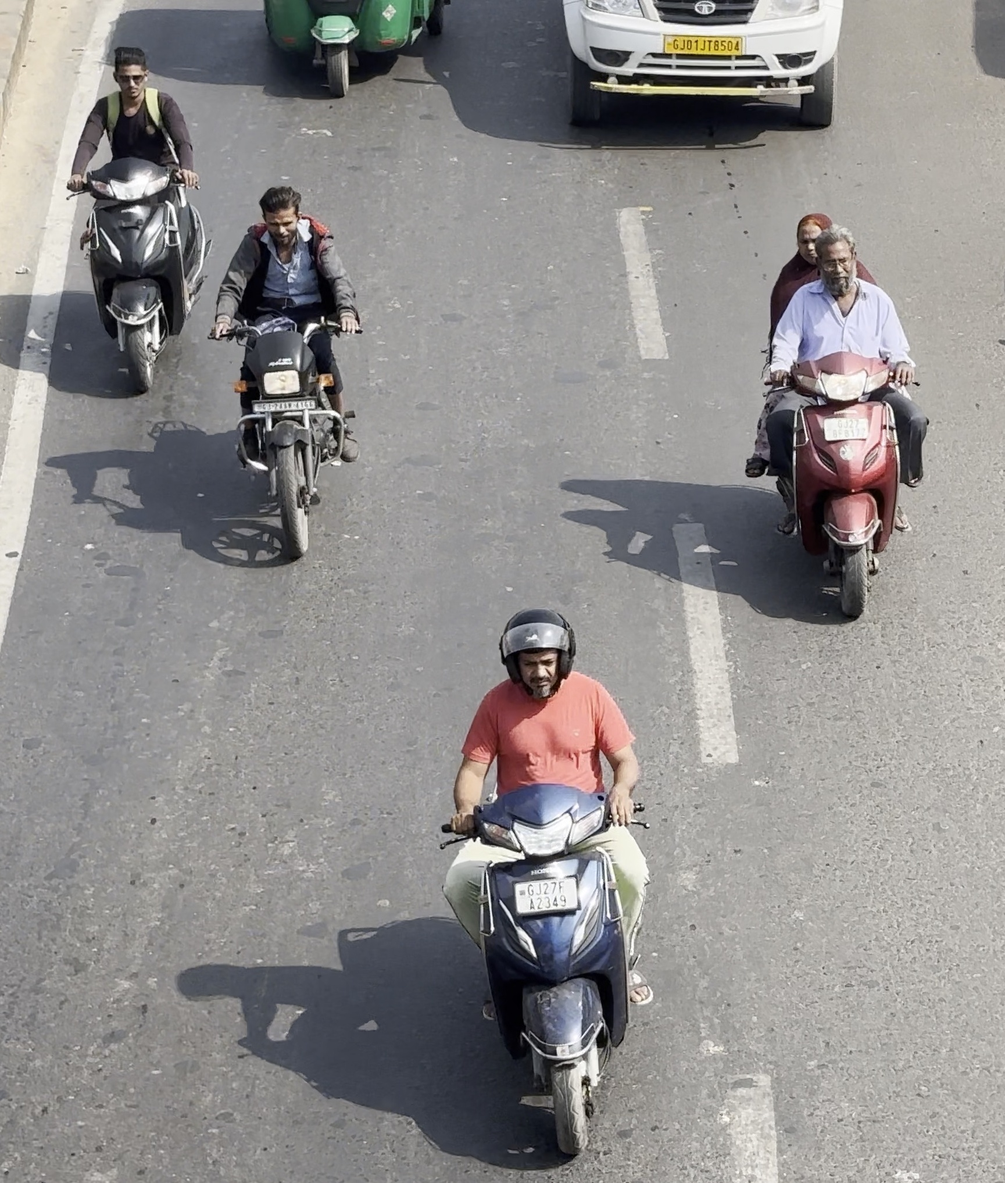BikeWithRider: (422, 567, 686, 1183), (725, 195, 953, 657), (204, 177, 375, 577), (50, 33, 224, 392)
Helmet: (486, 606, 586, 706)
NoHelmet: (248, 182, 314, 259), (99, 44, 158, 116), (812, 226, 868, 298), (791, 208, 836, 265)
